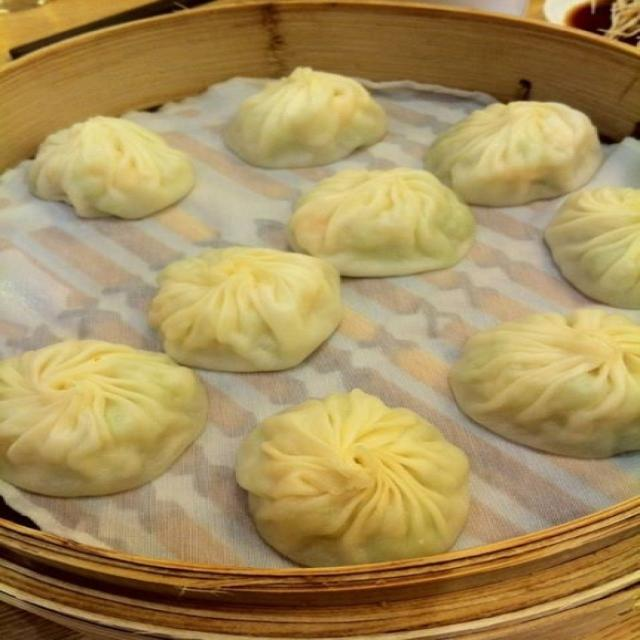带馅早点: (25, 31, 625, 595)
